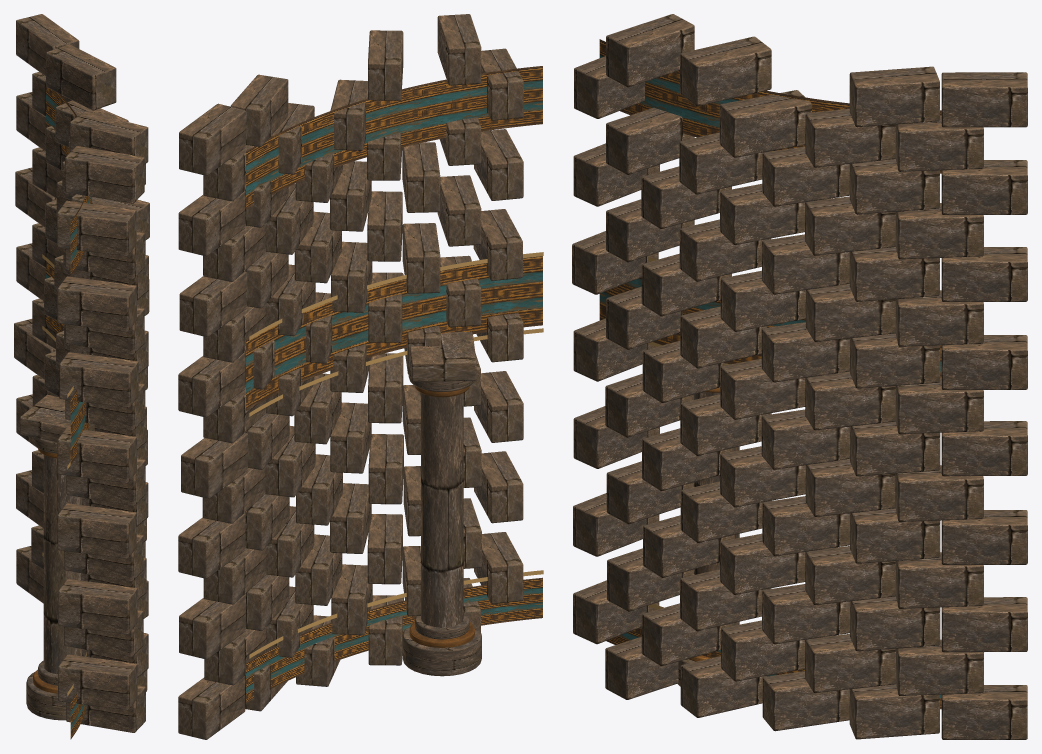
File: time-ruins-wall-right.glb
3 views of the same model, side by side, from view 1: azimuth 30°, elevation 25°; view 2: azimuth 150°, elevation 25°; view 3: azimuth 270°, elevation 25° (orthographic). The views are drawn at different scales.
Visible parts, largest first — view 1: Wall right Weathered limestone, Wall right Turquoise and gold frieze, Wall right Aged bronze; view 2: Wall right Weathered limestone, Wall right Turquoise and gold frieze, Wall right Worn gold edges, Wall right Aged bronze; view 3: Wall right Weathered limestone, Wall right Turquoise and gold frieze.
Boxes of the visible parts, x1,y1,x2,y2 form: Wall right Weathered limestone: (14,14,149,732); Wall right Turquoise and gold frieze: (45,80,91,739); Wall right Aged bronze: (33,448,57,693); Wall right Weathered limestone: (178,14,523,739); Wall right Turquoise and gold frieze: (246,66,542,703); Wall right Worn gold edges: (249,252,543,658); Wall right Aged bronze: (409,386,474,647); Wall right Weathered limestone: (572,14,1027,739); Wall right Turquoise and gold frieze: (599,39,941,709).
Bounding box in the file's own units: 2.9 × 9.73 × 6.14.
Materials: 4 (3 with a texture image).
